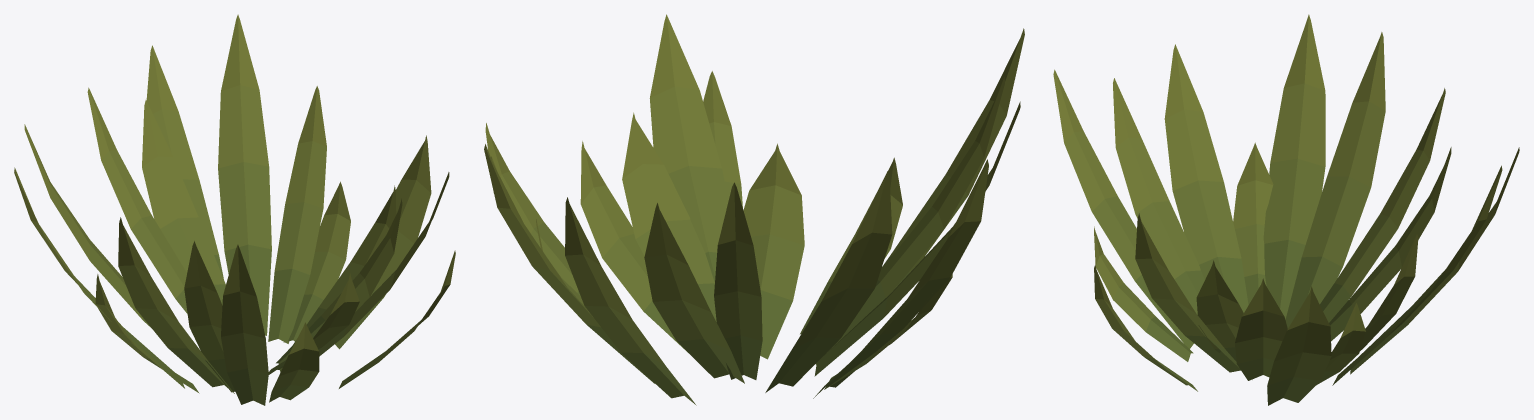
Rendered from dressing-grass.glb.
The picture shows the model from 3 angles, left to right: view 1: azimuth 30°, elevation 25°; view 2: azimuth 150°, elevation 25°; view 3: azimuth 270°, elevation 25°; orthographic projection. The views are drawn at different scales.
Visible parts, largest first — view 1: grass-curving-folded-blades; view 2: grass-curving-folded-blades; view 3: grass-curving-folded-blades.
Part boxes in pixels (x1=…): grass-curving-folded-blades: x1=14, y1=14, x2=455, y2=405; grass-curving-folded-blades: x1=484, y1=14, x2=1024, y2=405; grass-curving-folded-blades: x1=1053, y1=14, x2=1519, y2=405.
Bounding box in the file's own units: 0.7165 × 0.4088 × 0.696.
